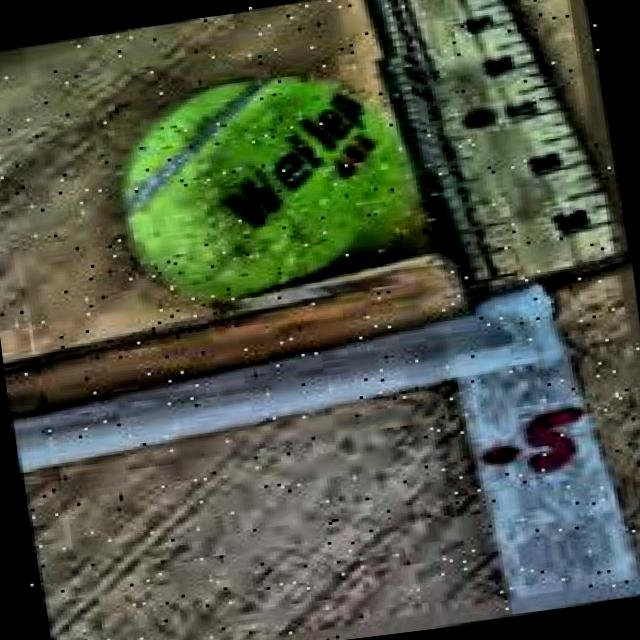Tennis Ball: (99, 51, 462, 327)
